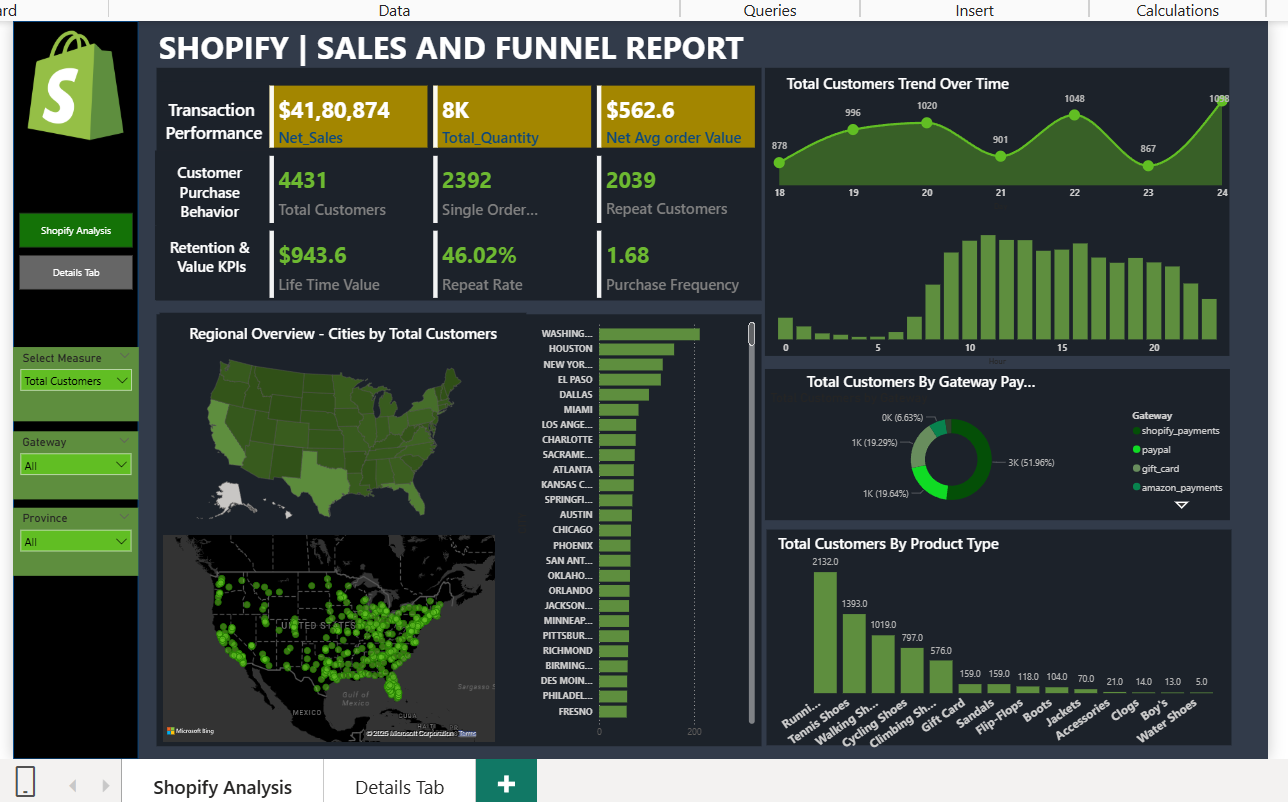

Layout of this report page (visuals, bound fields, positions):
{"tool":"powerbi","page":{"name":"Shopify Analysis","canvas":[1700,1000],"ordinal":0},"visuals":[{"type":"shape","box":[0,0,170,1000.2],"z":0},{"type":"textbox","box":[192,0,821.3,68.3],"z":1000},{"type":"shape","box":[193.7,63.1,819.8,315.3],"z":2000},{"type":"cardVisual","fields":{"Data":["shopify_sales.Net_Sales","shopify_sales.Total_Quantity","shopify_sales.Net Avg order Value"]},"box":[342.3,83.3,668.9,94.6],"z":3000},{"type":"card","fields":{"Values":["shopify_sales.Transaction perf"]},"box":[198.2,83.3,146.4,101.3],"z":4000},{"type":"cardVisual","fields":{"Data":["shopify_sales.Total Customers","shopify_sales.Single Order Customers","shopify_sales.Repeat Customers"]},"box":[342.3,177.9,668.9,101.3],"z":5000},{"type":"cardVisual","fields":{"Data":["shopify_sales.Life Time Value","shopify_sales.Repeat Rate","shopify_sales.Purchase Frequency"]},"box":[342.3,279.3,668.9,101.3],"z":6000},{"type":"card","fields":{"Values":["shopify_sales.Customer Purchase Behavior"]},"box":[191.4,175.7,153.1,101.3],"z":7000},{"type":"card","fields":{"Values":["shopify_sales.Retention & Value KPIs"]},"box":[191.4,277,153.1,101.3],"z":8000},{"type":"shape","box":[193.7,396.4,819.8,585.5],"z":9000},{"type":"map","fields":{"Category":["shopify_sales.Location"]},"box":[198.4,691.2,458.7,290.1],"z":10000},{"type":"clusteredBarChart","fields":{"Y":["shopify_sales.Total Customers"],"Category":["shopify_sales.CITY"]},"box":[677.1,396.2,333.6,586.8],"z":11000},{"type":"slicer","fields":{"Values":["Select Measure.Select Measure"]},"box":[0,442,170.7,100.6],"z":12000},{"type":"card","fields":{"Values":["shopify_sales.Map Title"]},"box":[198.1,396.2,496.6,57.7],"z":13000},{"type":"shape","box":[1019.8,64,629.3,390.4],"z":14000},{"type":"areaChart","fields":{"Y":["shopify_sales.Total Customers"],"Category":["shopify_sales.Invoice Date.Variation.Date Hierarchy.Day"]},"box":[1022.5,87.5,630,175],"z":15000},{"type":"columnChart","fields":{"Y":["shopify_sales.Total Customers"],"Category":["shopify_sales.Hour"]},"box":[1031.4,258.9,604.2,211.5],"z":16000},{"type":"card","fields":{"Values":["shopify_sales.Trend Title"]},"box":[1032.5,65,330,40],"z":17000},{"type":"shape","box":[1018.5,470.4,630.1,205],"z":18000},{"type":"donutChart","fields":{"Y":["shopify_sales.Total Customers"],"Category":["shopify_sales.Gateway"]},"box":[1020,500,632.5,167.5],"z":19000},{"type":"shape","box":[1020,690,630,292.5],"z":20000},{"type":"columnChart","fields":{"Y":["shopify_sales.Total Customers"],"Category":["shopify_sales.Product Type"]},"box":[1030,707.5,617.5,292.5],"z":21000},{"type":"card","fields":{"Values":["shopify_sales.Gateway Title"]},"box":[1065,470,330,40],"z":22000},{"type":"card","fields":{"Values":["shopify_sales.Product Title"]},"box":[1020,690,330,40],"z":23000},{"type":"image","box":[15,0,140,175],"z":24000},{"type":"slicer","fields":{"Values":["shopify_sales.Gateway"]},"box":[0,555,170,92.5],"z":25000},{"type":"slicer","fields":{"Values":["shopify_sales.Billing Address Province"]},"box":[0,660,170,92.5],"z":26000},{"type":"pageNavigator","box":[9.4,259.6,154.4,105.2],"z":27000},{"type":"shapeMap","fields":{"Value":["shopify_sales.Total Customers"],"Category":["shopify_sales.Billing Address Province"]},"box":[198.4,441.6,458.7,249.6],"z":28000}]}

Visuals, with their boxes on the page's 1700x1000 design canvas (x1, y1, x2, y2). These are canvas units, not pixel positions in the 1288x802 screenshot, which may show the page scaled, cropped or inside an application window:
shape: [x1=0, y1=0, x2=170, y2=1000]
textbox: [x1=192, y1=0, x2=1013, y2=68]
shape: [x1=194, y1=63, x2=1014, y2=378]
cardVisual - shopify_sales.Net_Sales x shopify_sales.Total_Quantity: [x1=342, y1=83, x2=1011, y2=178]
card - shopify_sales.Transaction perf: [x1=198, y1=83, x2=345, y2=185]
cardVisual - shopify_sales.Total Customers x shopify_sales.Single Order Customers: [x1=342, y1=178, x2=1011, y2=279]
cardVisual - shopify_sales.Life Time Value x shopify_sales.Repeat Rate: [x1=342, y1=279, x2=1011, y2=381]
card - shopify_sales.Customer Purchase Behavior: [x1=191, y1=176, x2=344, y2=277]
card - shopify_sales.Retention & Value KPIs: [x1=191, y1=277, x2=344, y2=378]
shape: [x1=194, y1=396, x2=1014, y2=982]
map - shopify_sales.Location: [x1=198, y1=691, x2=657, y2=981]
clusteredBarChart - shopify_sales.Total Customers x shopify_sales.CITY: [x1=677, y1=396, x2=1011, y2=983]
slicer - Select Measure.Select Measure: [x1=0, y1=442, x2=171, y2=543]
card - shopify_sales.Map Title: [x1=198, y1=396, x2=695, y2=454]
shape: [x1=1020, y1=64, x2=1649, y2=454]
areaChart - shopify_sales.Total Customers x shopify_sales.Invoice Date.Variation.Date Hierarchy.Day: [x1=1022, y1=88, x2=1652, y2=262]
columnChart - shopify_sales.Total Customers x shopify_sales.Hour: [x1=1031, y1=259, x2=1636, y2=470]
card - shopify_sales.Trend Title: [x1=1032, y1=65, x2=1362, y2=105]
shape: [x1=1018, y1=470, x2=1649, y2=675]
donutChart - shopify_sales.Total Customers x shopify_sales.Gateway: [x1=1020, y1=500, x2=1652, y2=668]
shape: [x1=1020, y1=690, x2=1650, y2=982]
columnChart - shopify_sales.Total Customers x shopify_sales.Product Type: [x1=1030, y1=708, x2=1648, y2=1000]
card - shopify_sales.Gateway Title: [x1=1065, y1=470, x2=1395, y2=510]
card - shopify_sales.Product Title: [x1=1020, y1=690, x2=1350, y2=730]
image: [x1=15, y1=0, x2=155, y2=175]
slicer - shopify_sales.Gateway: [x1=0, y1=555, x2=170, y2=648]
slicer - shopify_sales.Billing Address Province: [x1=0, y1=660, x2=170, y2=752]
pageNavigator: [x1=9, y1=260, x2=164, y2=365]
shapeMap - shopify_sales.Total Customers x shopify_sales.Billing Address Province: [x1=198, y1=442, x2=657, y2=691]
